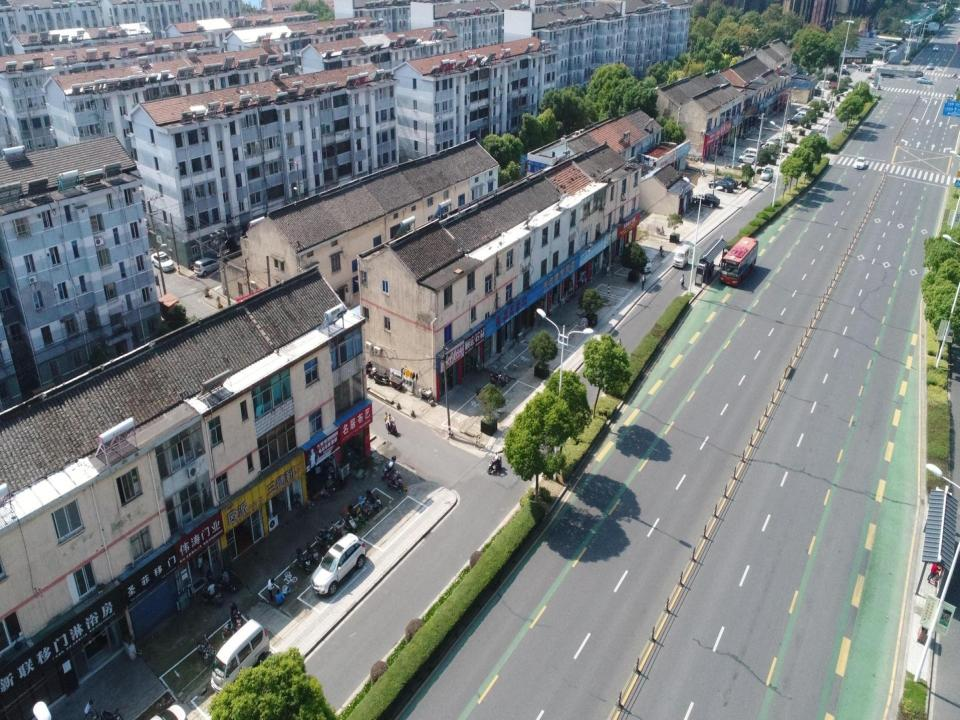bus: (717, 236, 759, 286)
car: (310, 534, 368, 597), (149, 250, 175, 274), (192, 256, 220, 278), (690, 190, 720, 210), (714, 173, 739, 192), (709, 179, 736, 194), (738, 153, 760, 167), (758, 166, 776, 183), (787, 116, 808, 128), (639, 255, 653, 273), (792, 110, 811, 122), (853, 156, 867, 171), (917, 74, 934, 86), (869, 80, 881, 92), (859, 64, 871, 72), (931, 44, 940, 53), (926, 62, 935, 70)
van: (202, 618, 270, 692), (672, 243, 690, 267), (743, 147, 764, 162)
